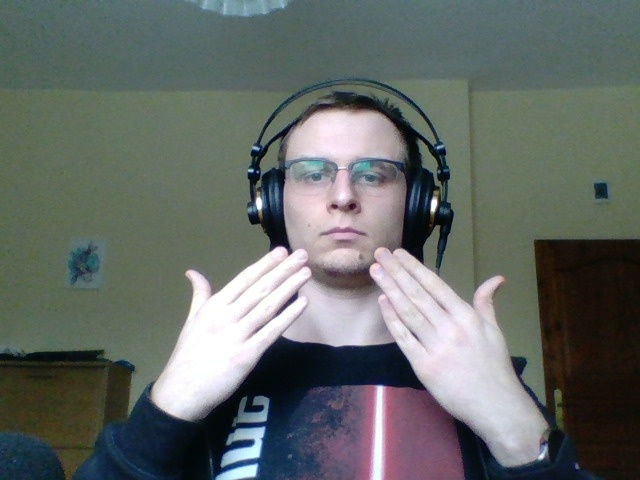thanks: (140, 229, 561, 464)
